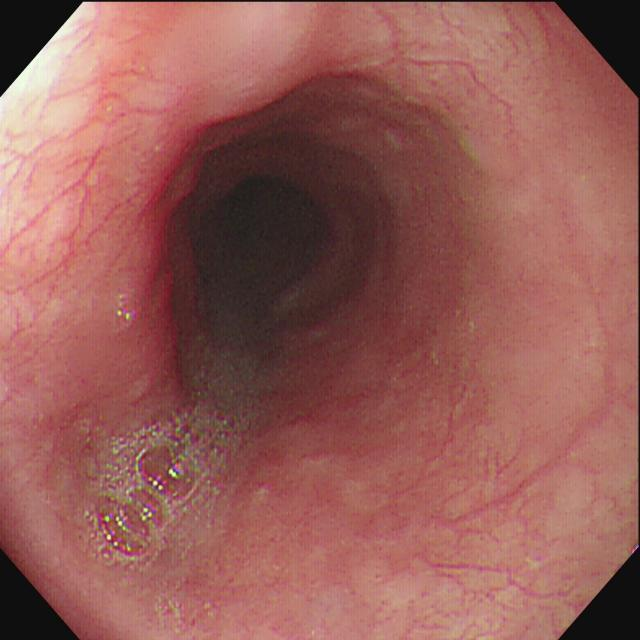A: (182, 7, 396, 124), (107, 132, 200, 278)
E: (187, 160, 336, 335)
T: (83, 357, 263, 574), (111, 289, 145, 331)
